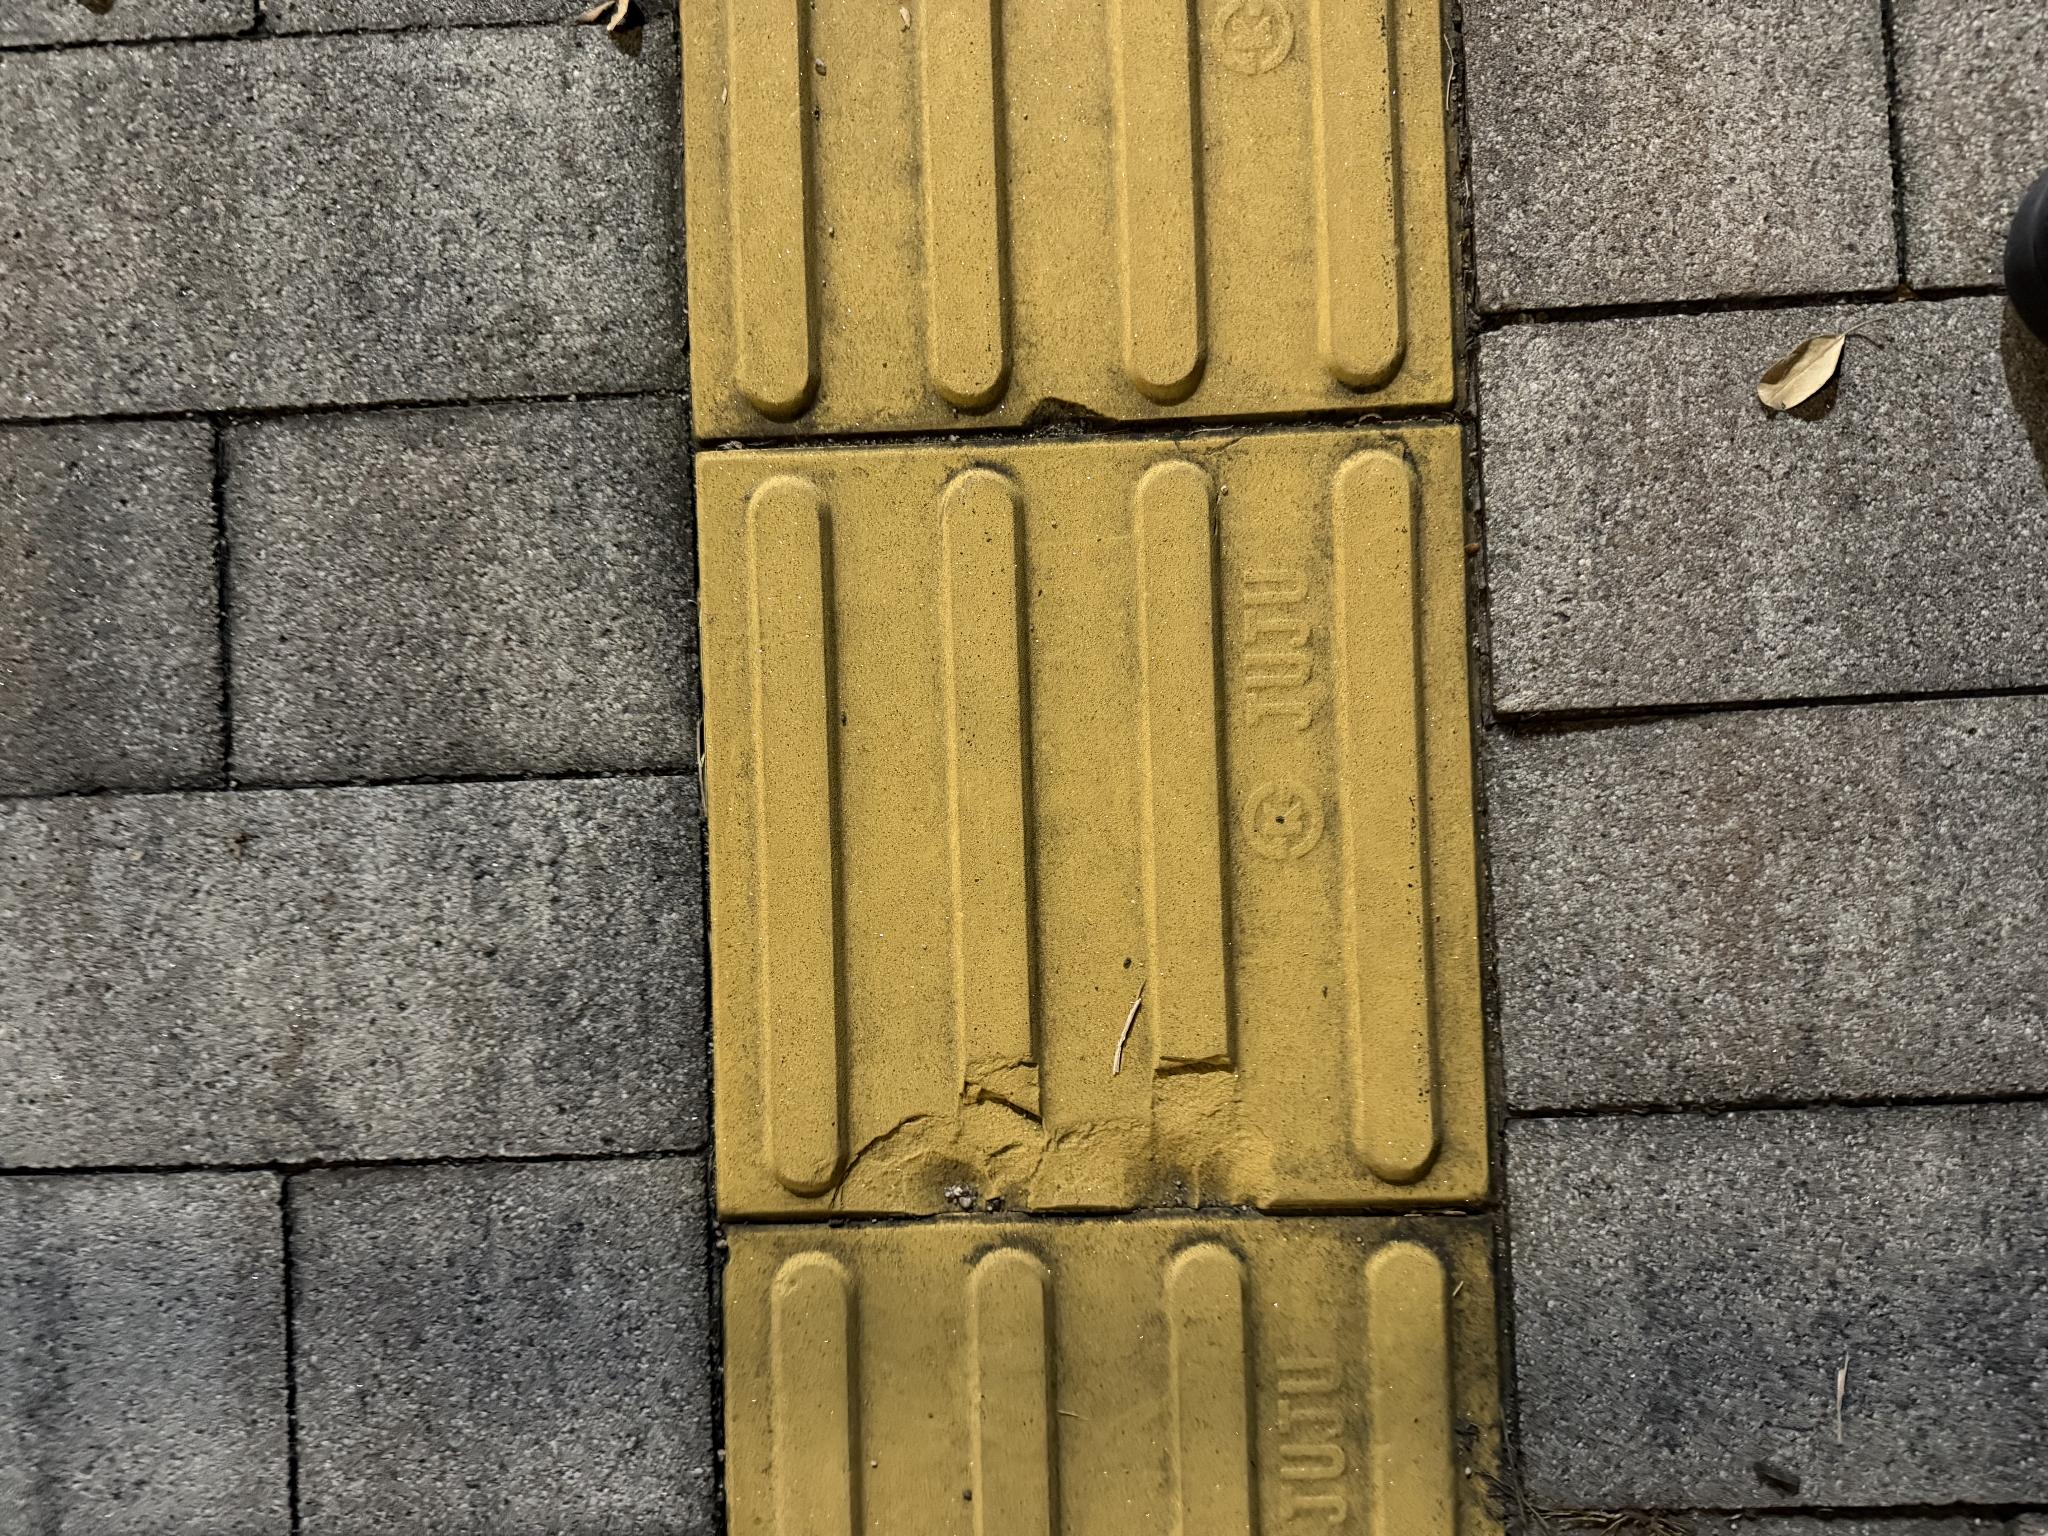Straight block broken: (321, 710, 1105, 1475)
